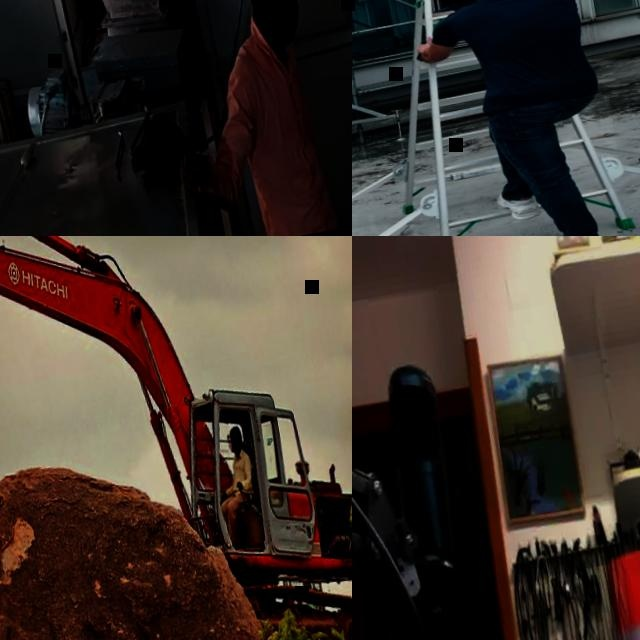Mask: (282, 0, 303, 41)
NO-Hardhat: (225, 423, 243, 442)
NO-Mask: (230, 442, 242, 455)
NO-Safety Vest: (227, 32, 340, 236), (445, 0, 594, 108), (228, 455, 253, 494)
Person: (398, 0, 629, 236), (138, 0, 341, 236), (205, 422, 264, 549)
machinery: (0, 236, 352, 640)
